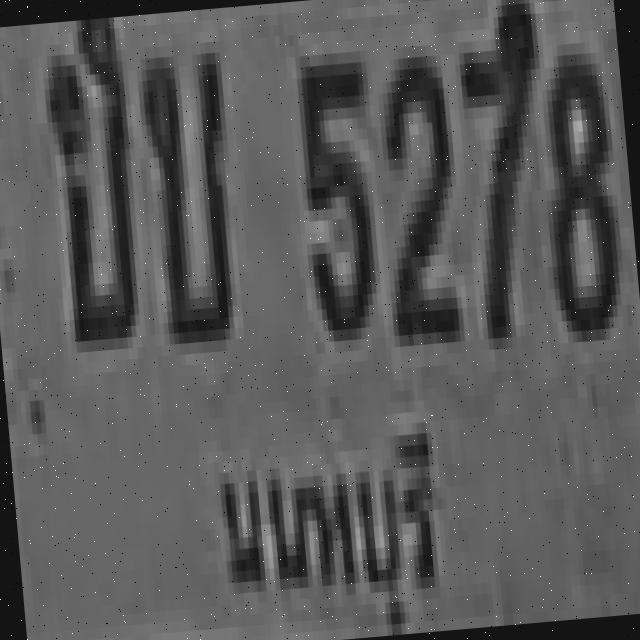2: (369, 44, 459, 336)
35BorBaiMai: (134, 41, 248, 351)
5: (289, 40, 379, 332)
7: (452, 43, 552, 347)
8: (528, 41, 618, 333)
Nonthaburi: (198, 385, 457, 640)
